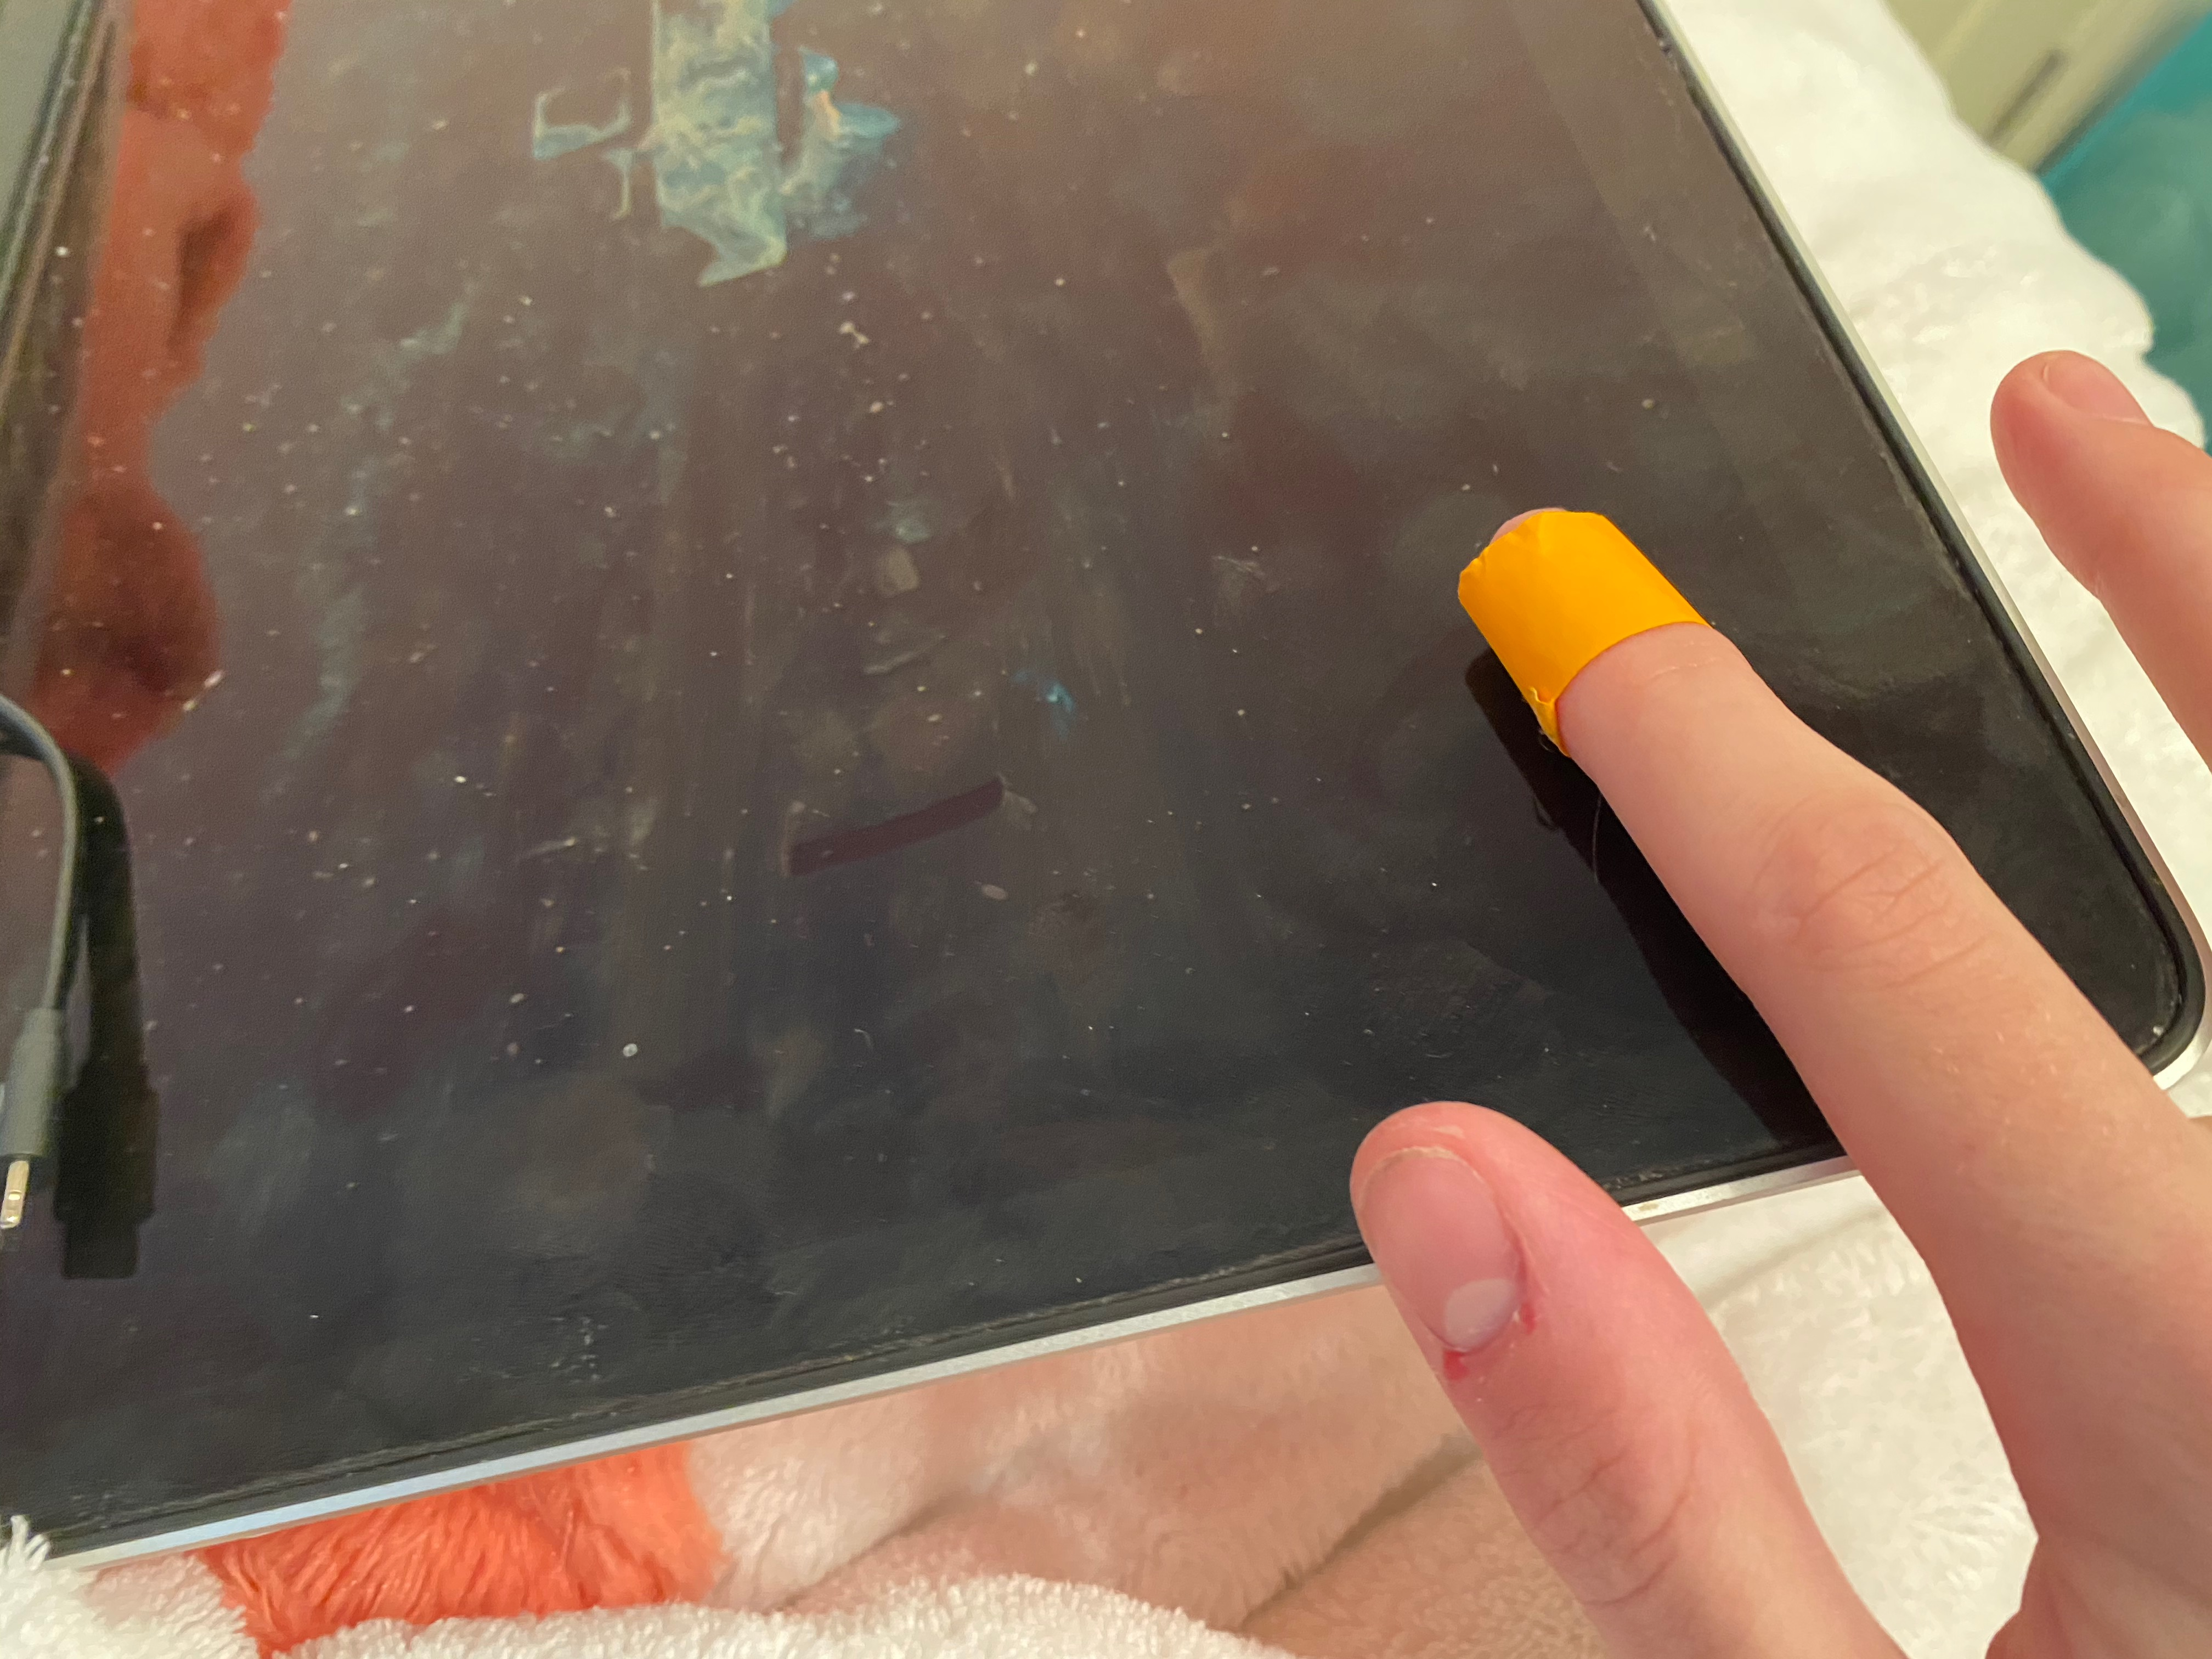fingertip: (1409, 493, 1716, 793)
